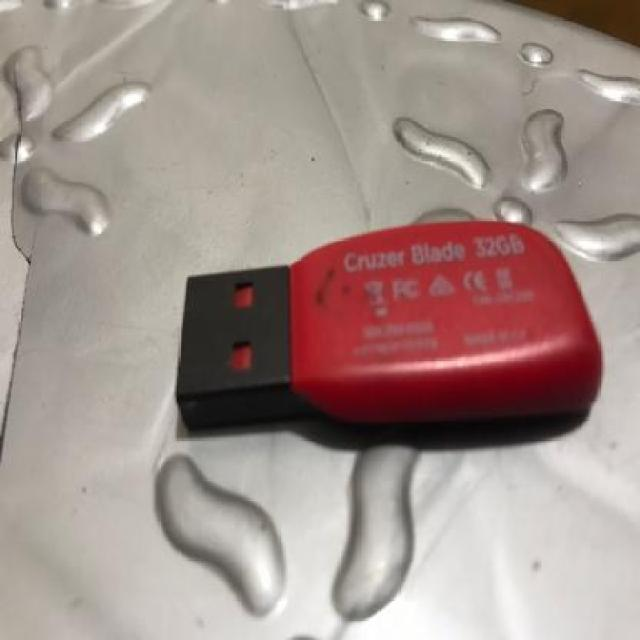Flashdisk: (159, 202, 630, 472)
